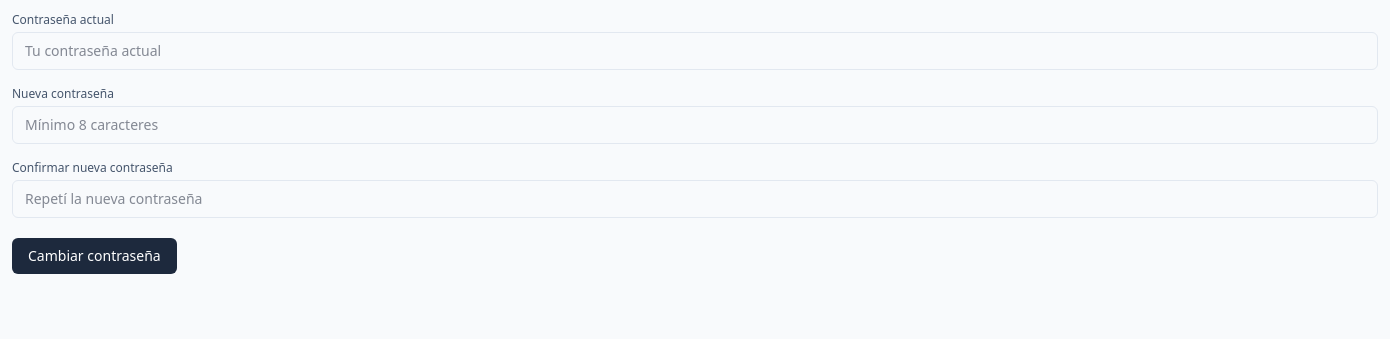
Test: ConfiguracionClient — cambio de contraseña › un 429 dice que esperen, no que el cambio falló
The width and height of the screenshot is (1390, 339).
Type "fake-actual-123" into the password field labelled "Contraseña actual" at [695, 51], box [12, 32, 1378, 70]
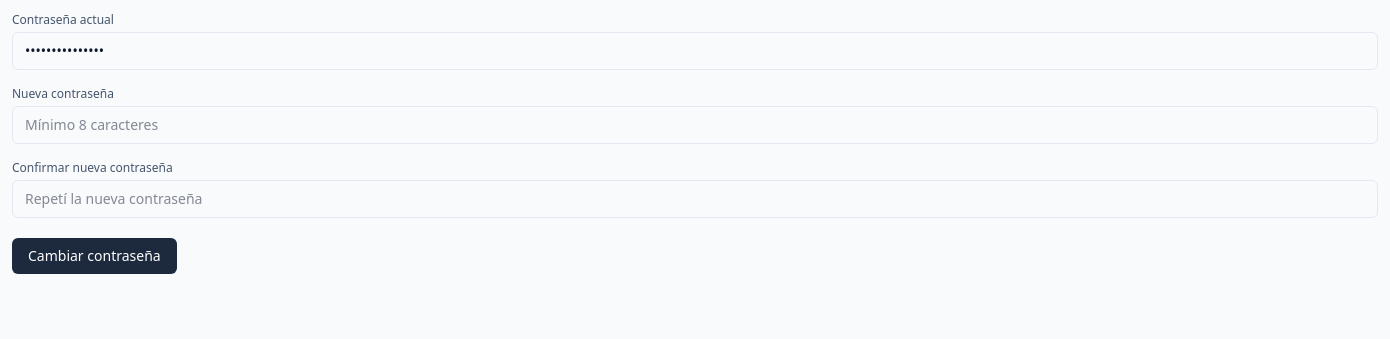
Type "fake-nueva-456" into the password field labelled "Nueva contraseña" at [695, 125], box [12, 106, 1378, 144]
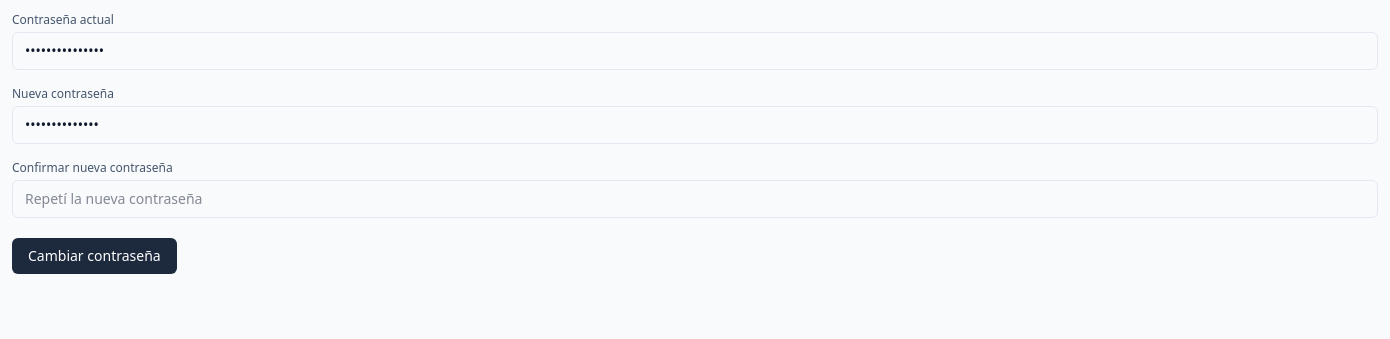
Type "fake-nueva-456" into the password field labelled "Confirmar nueva contraseña" at [695, 199], box [12, 180, 1378, 218]
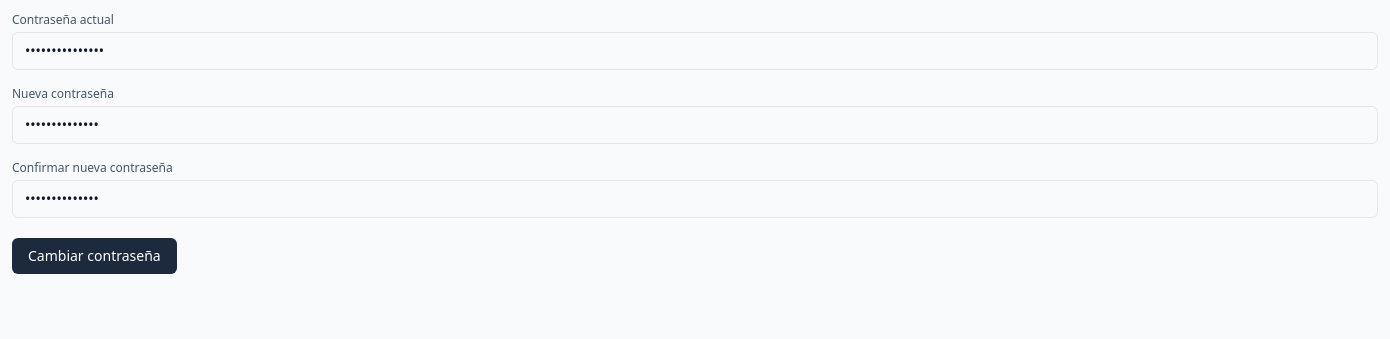
Submit the form
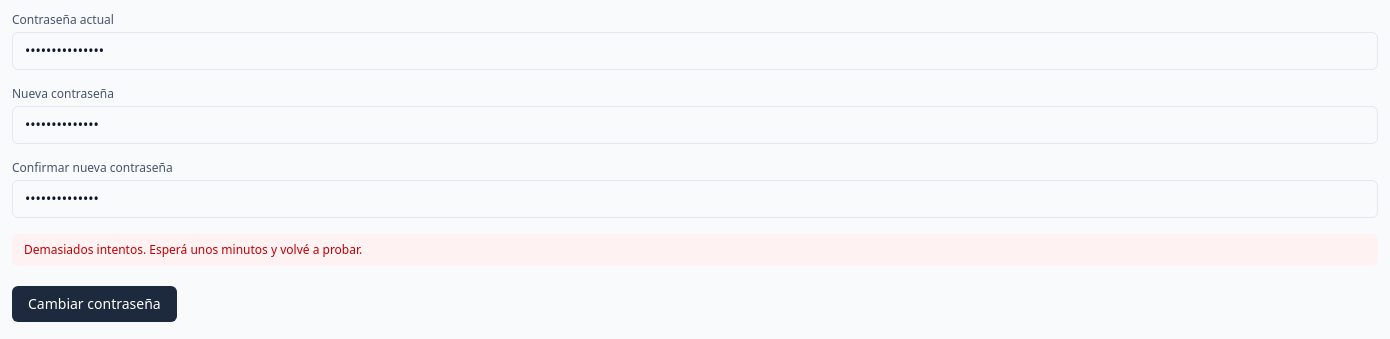
Expected: the text "Demasiados intentos. Esperá unos minutos y volvé a probar." is shown, [12, 234, 1378, 266]
